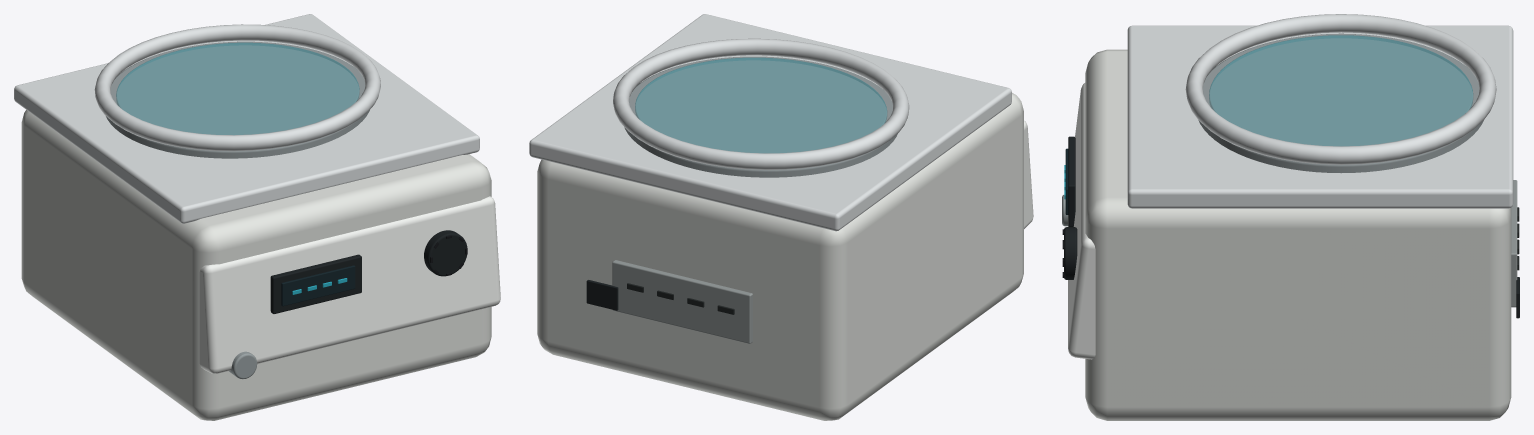
The model's file is water-bath.glb.
3 renders of one model, left to right at view 1: azimuth 30°, elevation 25°; view 2: azimuth 150°, elevation 25°; view 3: azimuth 270°, elevation 25°, orthographic. The views are drawn at different scales.
Parts seen in each view (by area): view 1: Runtime batch - Warm instrument polymer, Runtime batch - Bright brushed stainless steel, Runtime batch - Cool instrument polymer, Runtime batch - Shadowed brushed stainless steel, Runtime batch - Water bath liquid, Runtime batch - Black engineering polymer, Runtime batch - Smoked instrument display glass; view 2: Runtime batch - Warm instrument polymer, Runtime batch - Bright brushed stainless steel, Runtime batch - Shadowed brushed stainless steel, Runtime batch - Water bath liquid, Runtime batch - Powder coat service gray, Runtime batch - Black engineering polymer, Runtime batch - Cool instrument polymer, Runtime batch - Casework seam shadow; view 3: Runtime batch - Warm instrument polymer, Runtime batch - Bright brushed stainless steel, Runtime batch - Shadowed brushed stainless steel, Runtime batch - Water bath liquid, Runtime batch - Cool instrument polymer, Runtime batch - Black engineering polymer, Runtime batch - Powder coat service gray.
Part boxes in pixels (x1=…): Runtime batch - Warm instrument polymer: x1=21, y1=110, x2=491, y2=420; Runtime batch - Bright brushed stainless steel: x1=14, y1=14, x2=479, y2=223; Runtime batch - Cool instrument polymer: x1=199, y1=196, x2=500, y2=373; Runtime batch - Shadowed brushed stainless steel: x1=106, y1=41, x2=369, y2=379; Runtime batch - Water bath liquid: x1=116, y1=42, x2=359, y2=134; Runtime batch - Black engineering polymer: x1=270, y1=230, x2=467, y2=313; Runtime batch - Smoked instrument display glass: x1=281, y1=265, x2=355, y2=306; Runtime batch - Warm instrument polymer: x1=537, y1=93, x2=1023, y2=420; Runtime batch - Bright brushed stainless steel: x1=529, y1=14, x2=1011, y2=231; Runtime batch - Shadowed brushed stainless steel: x1=624, y1=56, x2=897, y2=177; Runtime batch - Water bath liquid: x1=635, y1=57, x2=887, y2=152; Runtime batch - Powder coat service gray: x1=612, y1=260, x2=752, y2=343; Runtime batch - Black engineering polymer: x1=586, y1=280, x2=618, y2=310; Runtime batch - Cool instrument polymer: x1=1024, y1=120, x2=1033, y2=228; Runtime batch - Casework seam shadow: x1=627, y1=283, x2=734, y2=314; Runtime batch - Warm instrument polymer: x1=1085, y1=49, x2=1511, y2=420; Runtime batch - Bright brushed stainless steel: x1=1127, y1=14, x2=1513, y2=208; Runtime batch - Shadowed brushed stainless steel: x1=1062, y1=33, x2=1483, y2=226; Runtime batch - Water bath liquid: x1=1209, y1=35, x2=1473, y2=145; Runtime batch - Cool instrument polymer: x1=1068, y1=83, x2=1095, y2=359; Runtime batch - Black engineering polymer: x1=1064, y1=136, x2=1519, y2=318; Runtime batch - Powder coat service gray: x1=1511, y1=180, x2=1517, y2=307.
Bounding box in the file's own units: 0.31 × 0.23 × 0.36.
